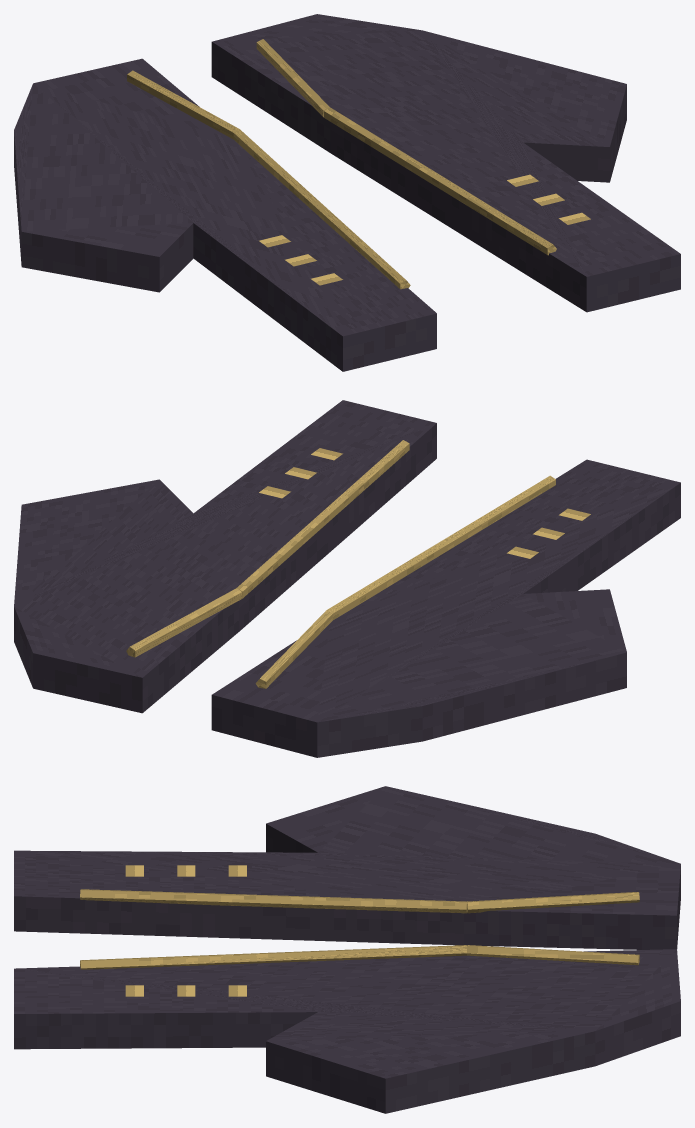
The model's file is haori.glb.
The picture shows the model from 3 angles, top to bottom: view 1: azimuth 30°, elevation 25°; view 2: azimuth 150°, elevation 25°; view 3: azimuth 270°, elevation 25°; orthographic projection.
Parts seen in each view (by area): view 1: block_unfastened haori panel (×2), block_embroidery edging 1 (×2), block_embroidery edging 0 (×2); view 2: block_unfastened haori panel (×2), block_embroidery edging 1 (×2), block_embroidery edging 0 (×2); view 3: block_unfastened haori panel (×2), block_embroidery edging 1 (×2), block_embroidery edging 0 (×2).
Part boxes in pixels (x1,y1,x2,y2): block_unfastened haori panel (×2): (14, 14, 680, 371); block_embroidery edging 1 (×2): (233, 107, 556, 289); block_embroidery edging 0 (×2): (127, 39, 329, 139); block_unfastened haori panel (×2): (14, 400, 680, 757); block_embroidery edging 1 (×2): (236, 440, 555, 620); block_embroidery edging 0 (×2): (126, 588, 332, 688); block_unfastened haori panel (×2): (14, 786, 680, 1113); block_embroidery edging 1 (×2): (80, 889, 466, 969); block_embroidery edging 0 (×2): (467, 892, 639, 965).
Size of the model in its own units: 0.5985 by 0.0422 by 0.5766.
Materials: 1 (1 with a texture image).
